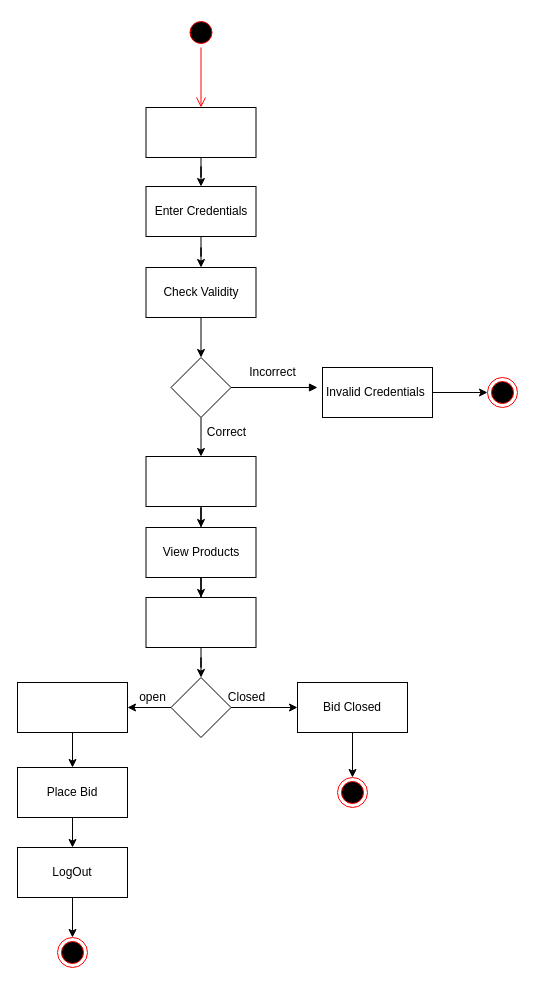
This 535x985 diagram has some shape labels left out. The shapes that lost their labels are listed below. From the top down, each one's centre as x and y in pixels, then its label:
At pixel 200 132: "Login/Register".
At pixel 200 481: "Valid Credentials".
At pixel 200 622: "Check if bid open".
At pixel 72 707: "Bid Open".
